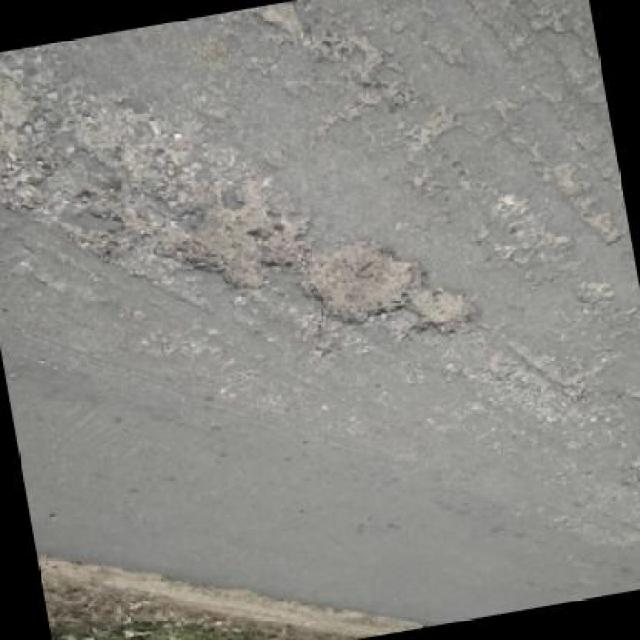pothole1: (158, 176, 318, 310), (286, 229, 431, 336), (402, 280, 482, 342)
